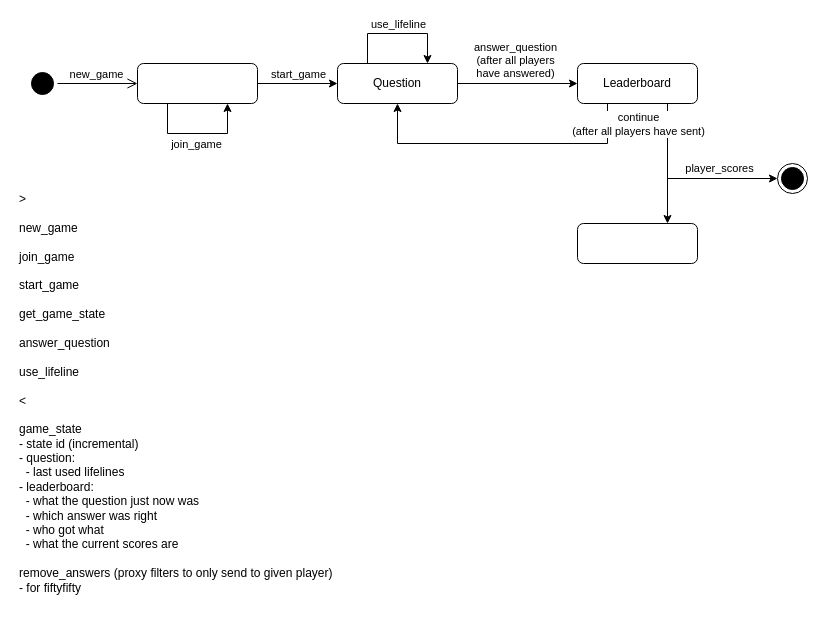
This 825x620 diagram has some shape labels left out. The centre of each missing label's shape, as x and y in pixels:
"Lobby" goes at pixel 197 83.
"Results" goes at pixel 637 243.
